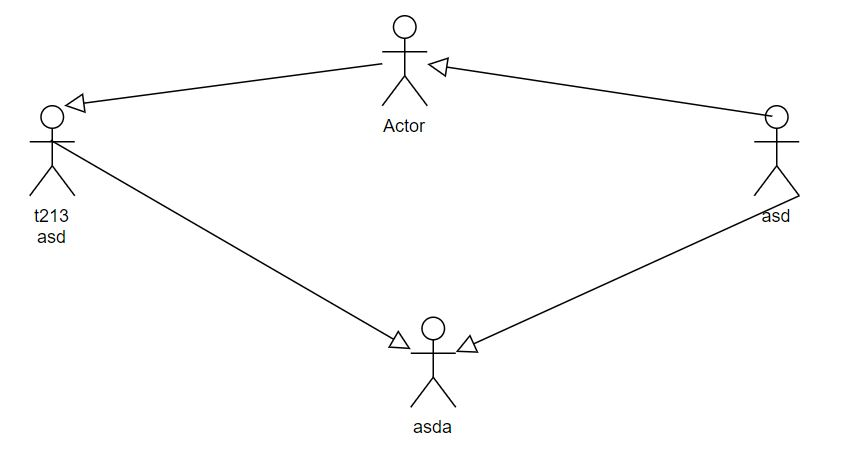actor: (408, 317, 457, 409), (753, 104, 800, 196), (380, 14, 427, 105), (29, 105, 75, 197)
generalization: (56, 142, 408, 349), (455, 196, 797, 353), (427, 54, 769, 117), (66, 61, 383, 111)
text: (28, 206, 75, 246), (374, 111, 430, 138), (411, 417, 455, 440), (757, 208, 794, 225)
